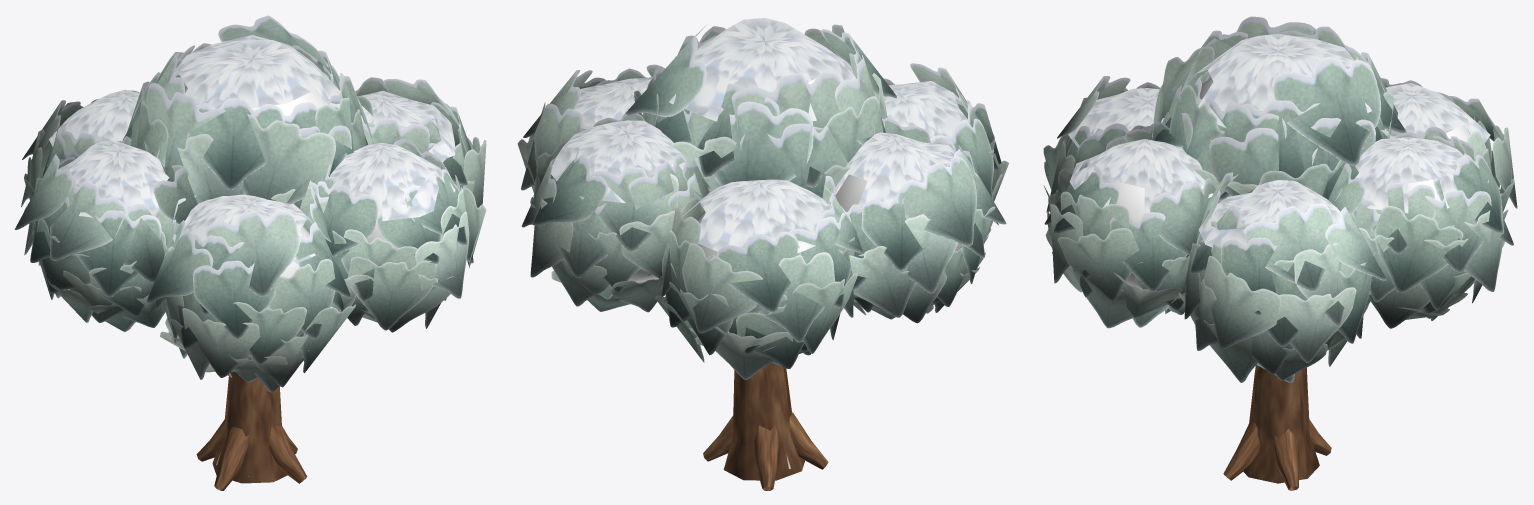
Rendered from tree-wide-winter.glb.
3 views of the same model, side by side, from view 1: azimuth 30°, elevation 25°; view 2: azimuth 150°, elevation 25°; view 3: azimuth 270°, elevation 25° (orthographic). The views are drawn at different scales.
Visible parts, largest first — view 1: Crown, Trunk, Hull; view 2: Crown, Trunk, Hull; view 3: Crown, Trunk, Hull.
Boxes of the visible parts, x1=… form: Crown: x1=14, y1=15, x2=486, y2=392; Trunk: x1=196, y1=372, x2=307, y2=490; Hull: x1=74, y1=86, x2=442, y2=335; Crown: x1=517, y1=18, x2=1008, y2=379; Trunk: x1=703, y1=363, x2=828, y2=490; Hull: x1=628, y1=72, x2=962, y2=332; Crown: x1=1043, y1=16, x2=1517, y2=382; Trunk: x1=1223, y1=365, x2=1331, y2=490; Hull: x1=1094, y1=77, x2=1469, y2=289.
Size of the model in its own units: 3.34 by 3.09 by 3.09.
Materials: 3 (2 with a texture image).
